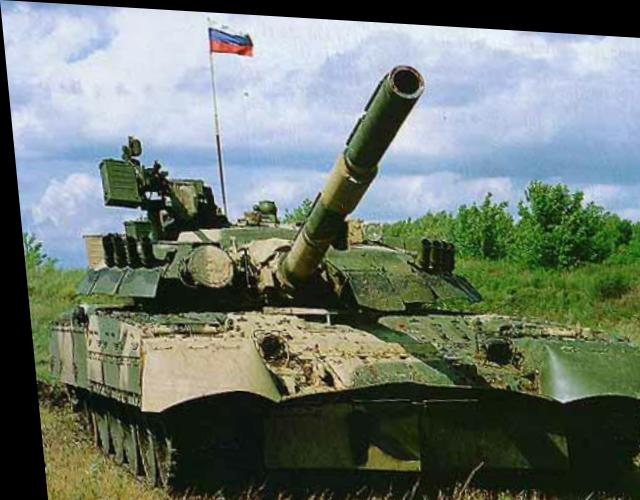tank: (40, 146, 640, 496)
